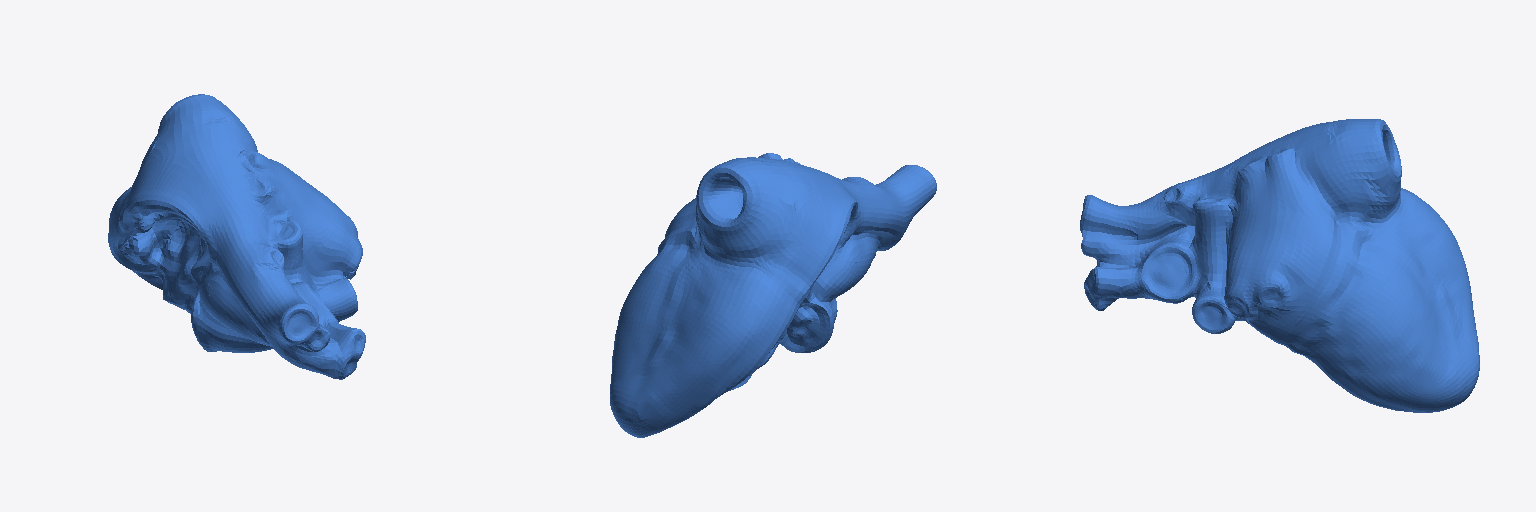
File: heart_cross_section.obj
3 views of the same model, side by side, from view 1: azimuth 30°, elevation 25°; view 2: azimuth 150°, elevation 25°; view 3: azimuth 270°, elevation 25° (orthographic).
Visible parts, largest first — view 1: Heart; view 2: Heart; view 3: Heart.
Part boxes in pixels (x1,y1,x2,y2): Heart: (108, 94, 365, 379); Heart: (610, 153, 936, 437); Heart: (1080, 119, 1479, 412).
Bounding box in the file's own units: 2.82 × 3.58 × 5.08.